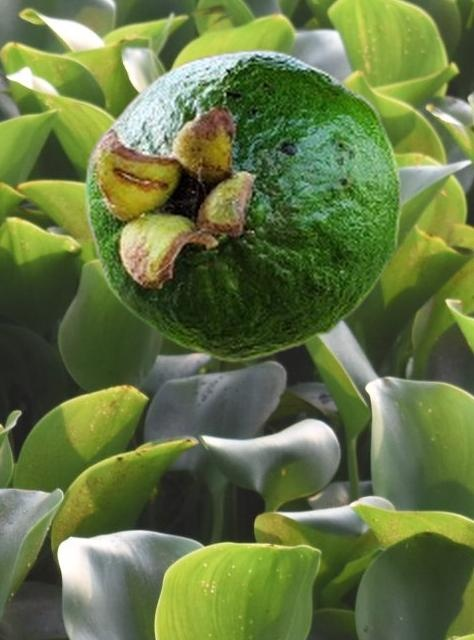guava: (83, 48, 403, 362)
